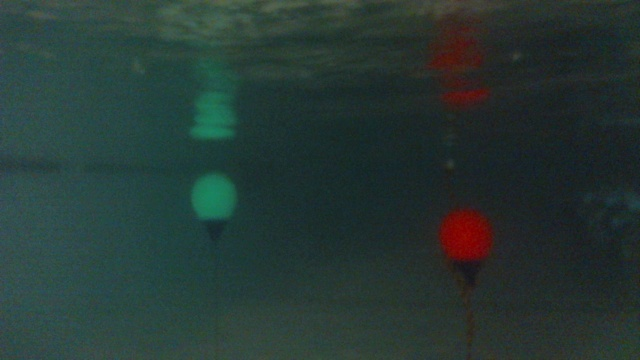buoy_green: (188, 168, 238, 245)
buoy_red: (440, 209, 491, 281)
